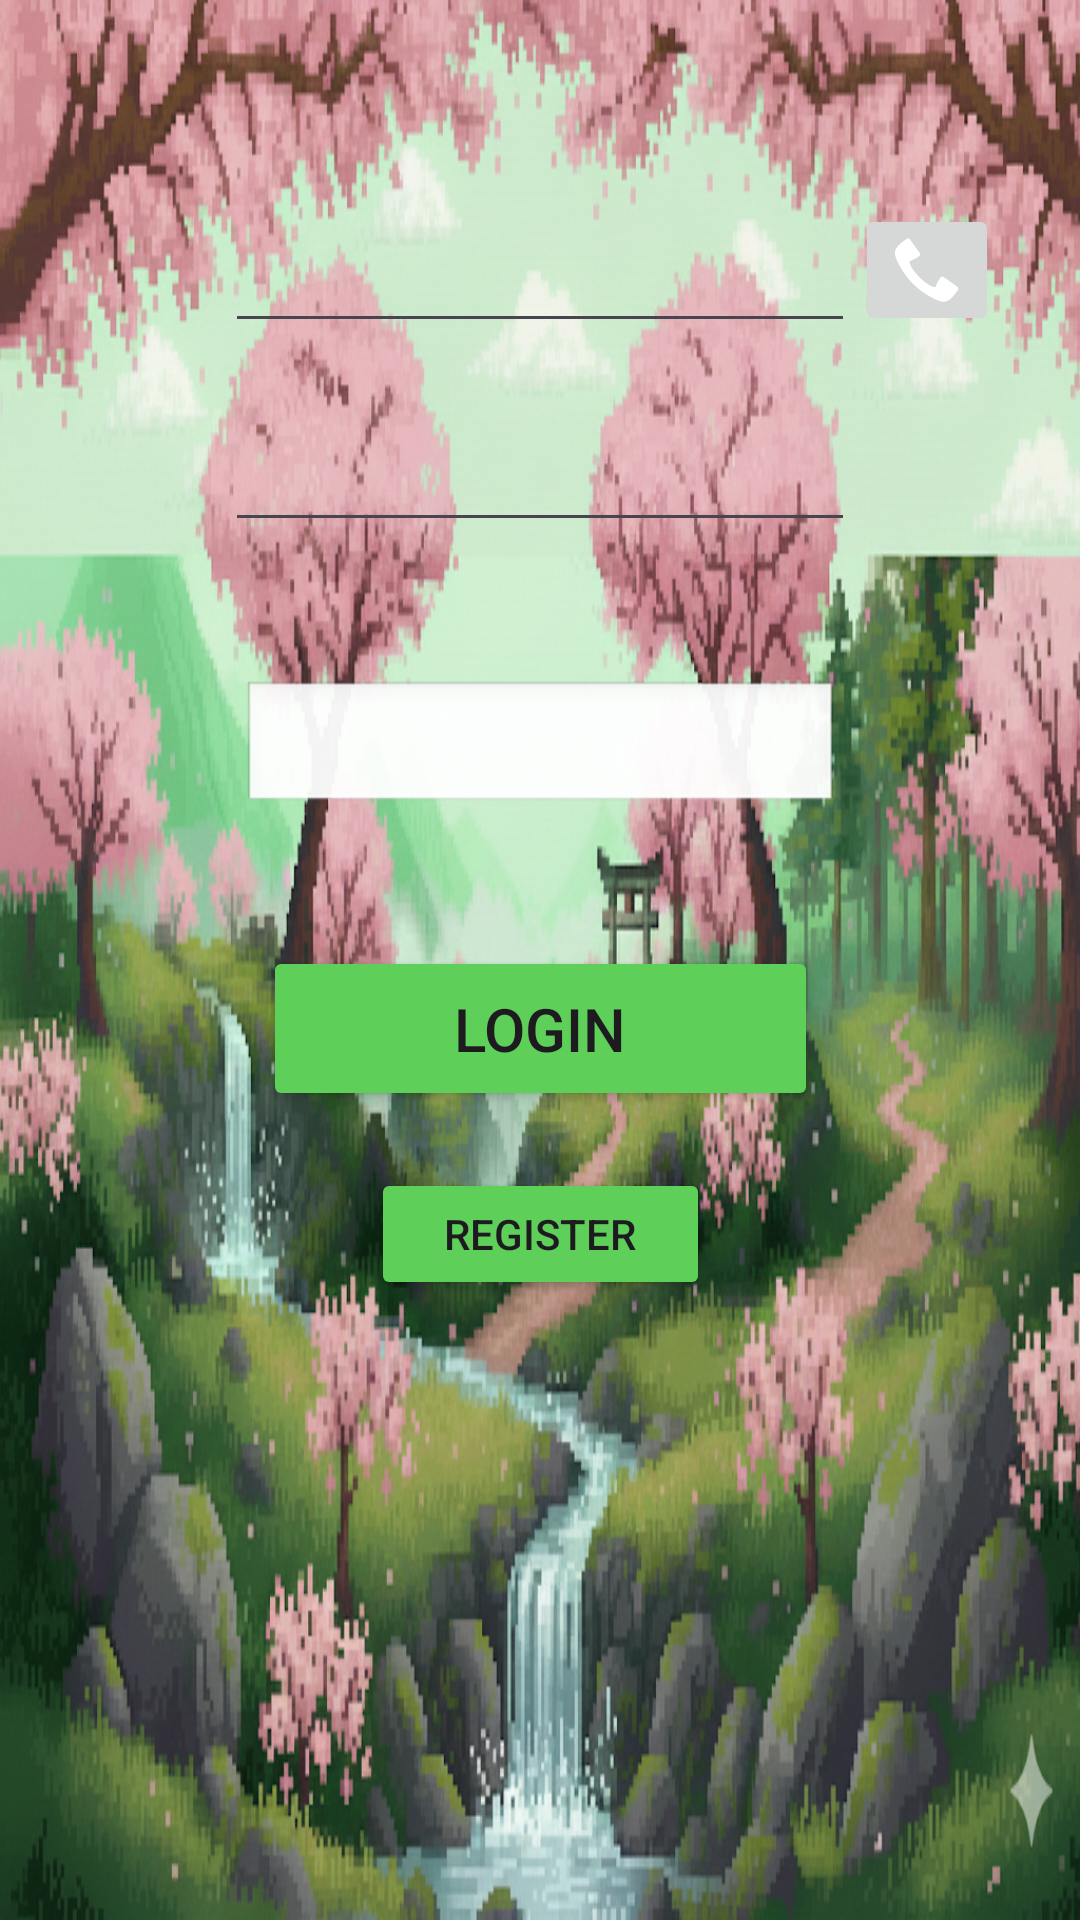

Where to tap for icons on this 1080×1920 app screen, as [x,y]:
phone call: [927,270]
